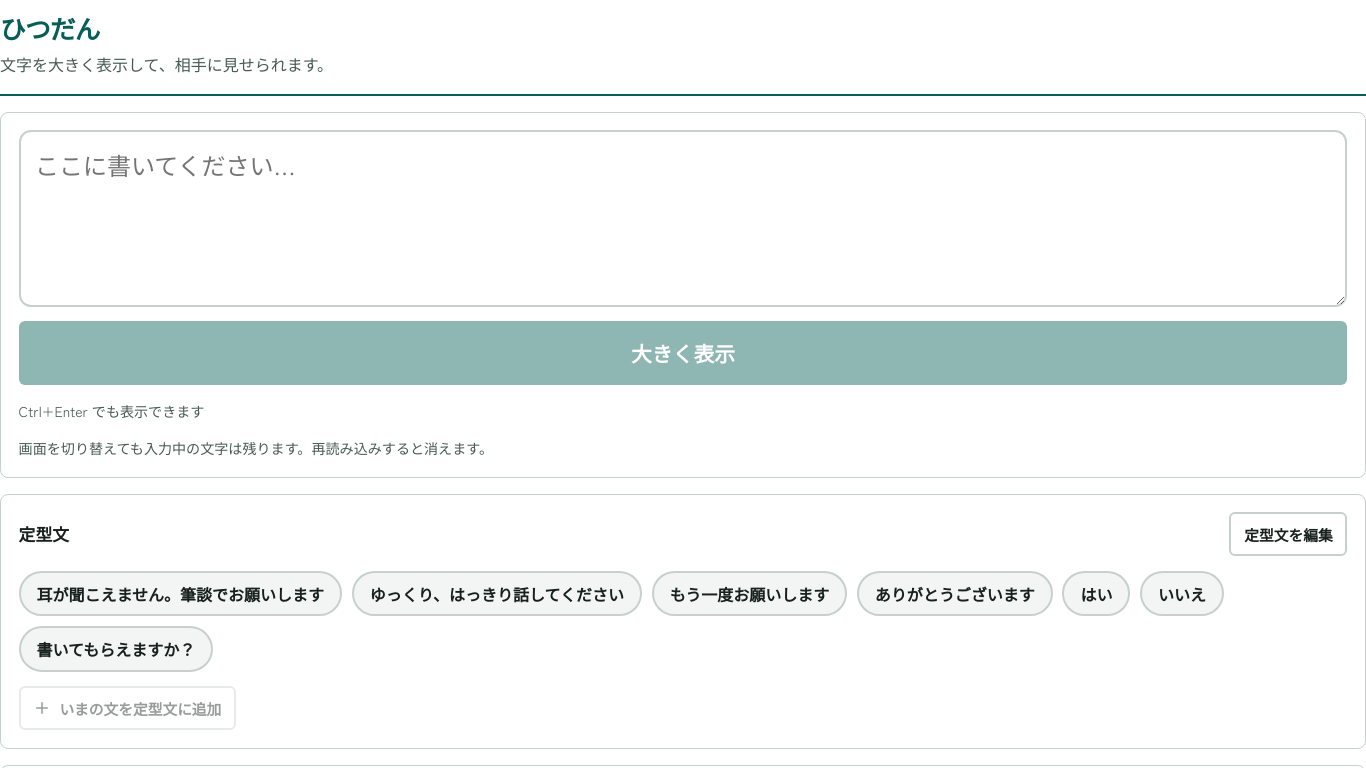
Board › shows a quick phrase directly
The image size is (1366, 768).
Click the button "ゆっくり、はっきり話してください" at (497, 594), box [352,571,642,616]
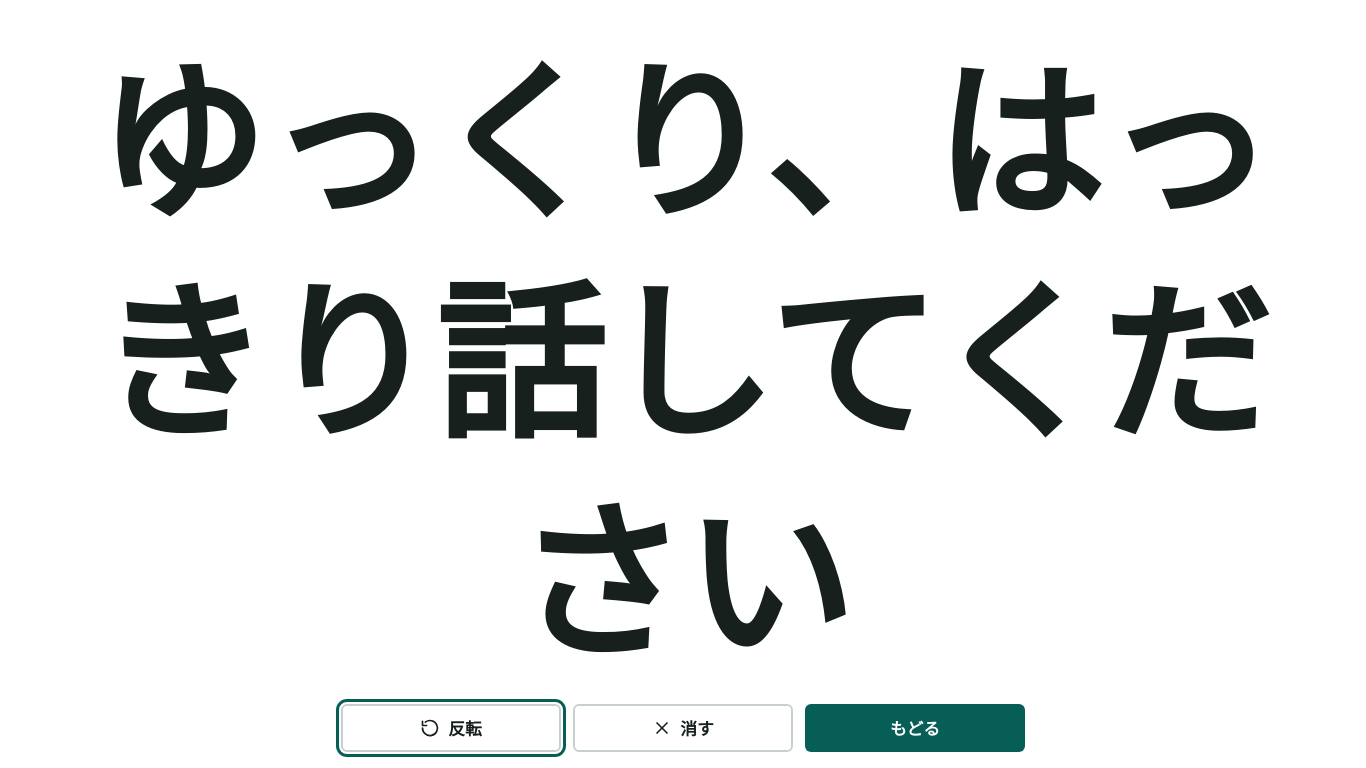
Check: the text "ゆっくり、はっきり話してください" is shown
